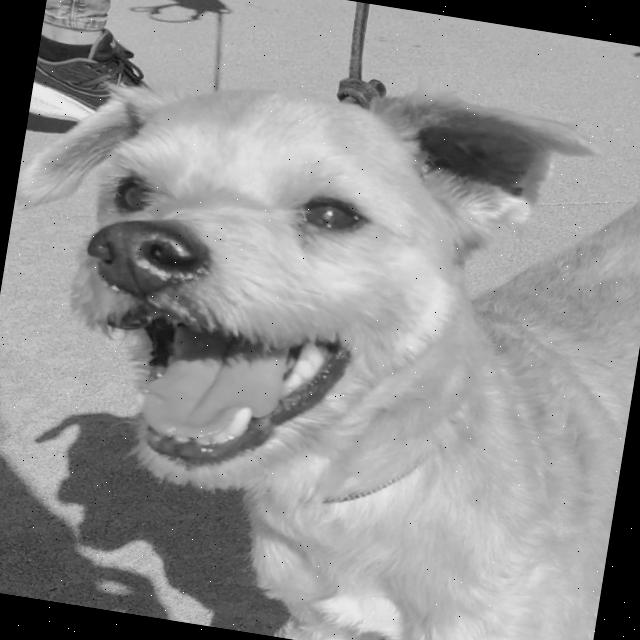shih_tzu_dog: (0, 7, 598, 560)
